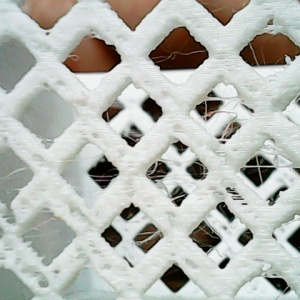3dpstringing: (139, 141, 219, 208), (238, 140, 297, 188), (200, 92, 255, 142), (15, 205, 66, 258), (54, 157, 126, 190), (253, 255, 293, 297), (126, 223, 175, 251), (1, 159, 37, 197), (189, 221, 228, 256), (64, 284, 119, 299), (29, 128, 65, 150), (152, 49, 209, 62), (248, 45, 262, 76)
3dpunderextrusion: (5, 246, 58, 291), (220, 177, 267, 225), (56, 193, 107, 231), (157, 88, 190, 140), (75, 237, 118, 276), (51, 77, 95, 112)
